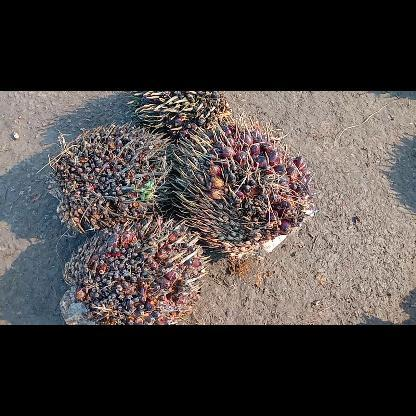TBS abnormal: (56, 212, 214, 324), (46, 119, 176, 235), (124, 91, 234, 139)
TBS masak: (166, 109, 320, 263)
